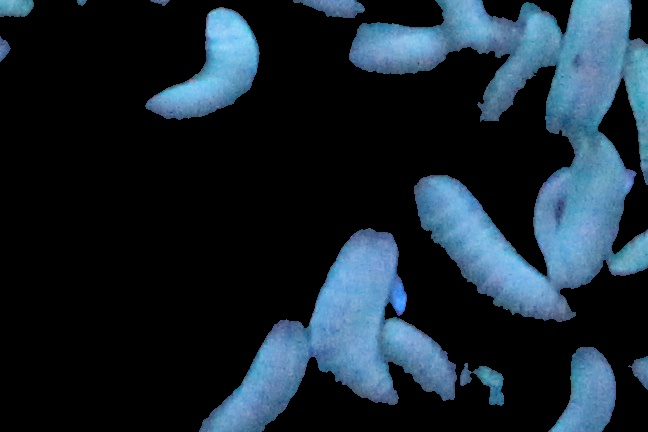larvae: (405, 176, 575, 324), (312, 228, 401, 406), (147, 5, 264, 126), (198, 319, 309, 432), (550, 1, 631, 134), (349, 16, 524, 74), (560, 130, 624, 285), (478, 14, 556, 120), (385, 322, 460, 422), (549, 351, 613, 432), (525, 164, 569, 258)
